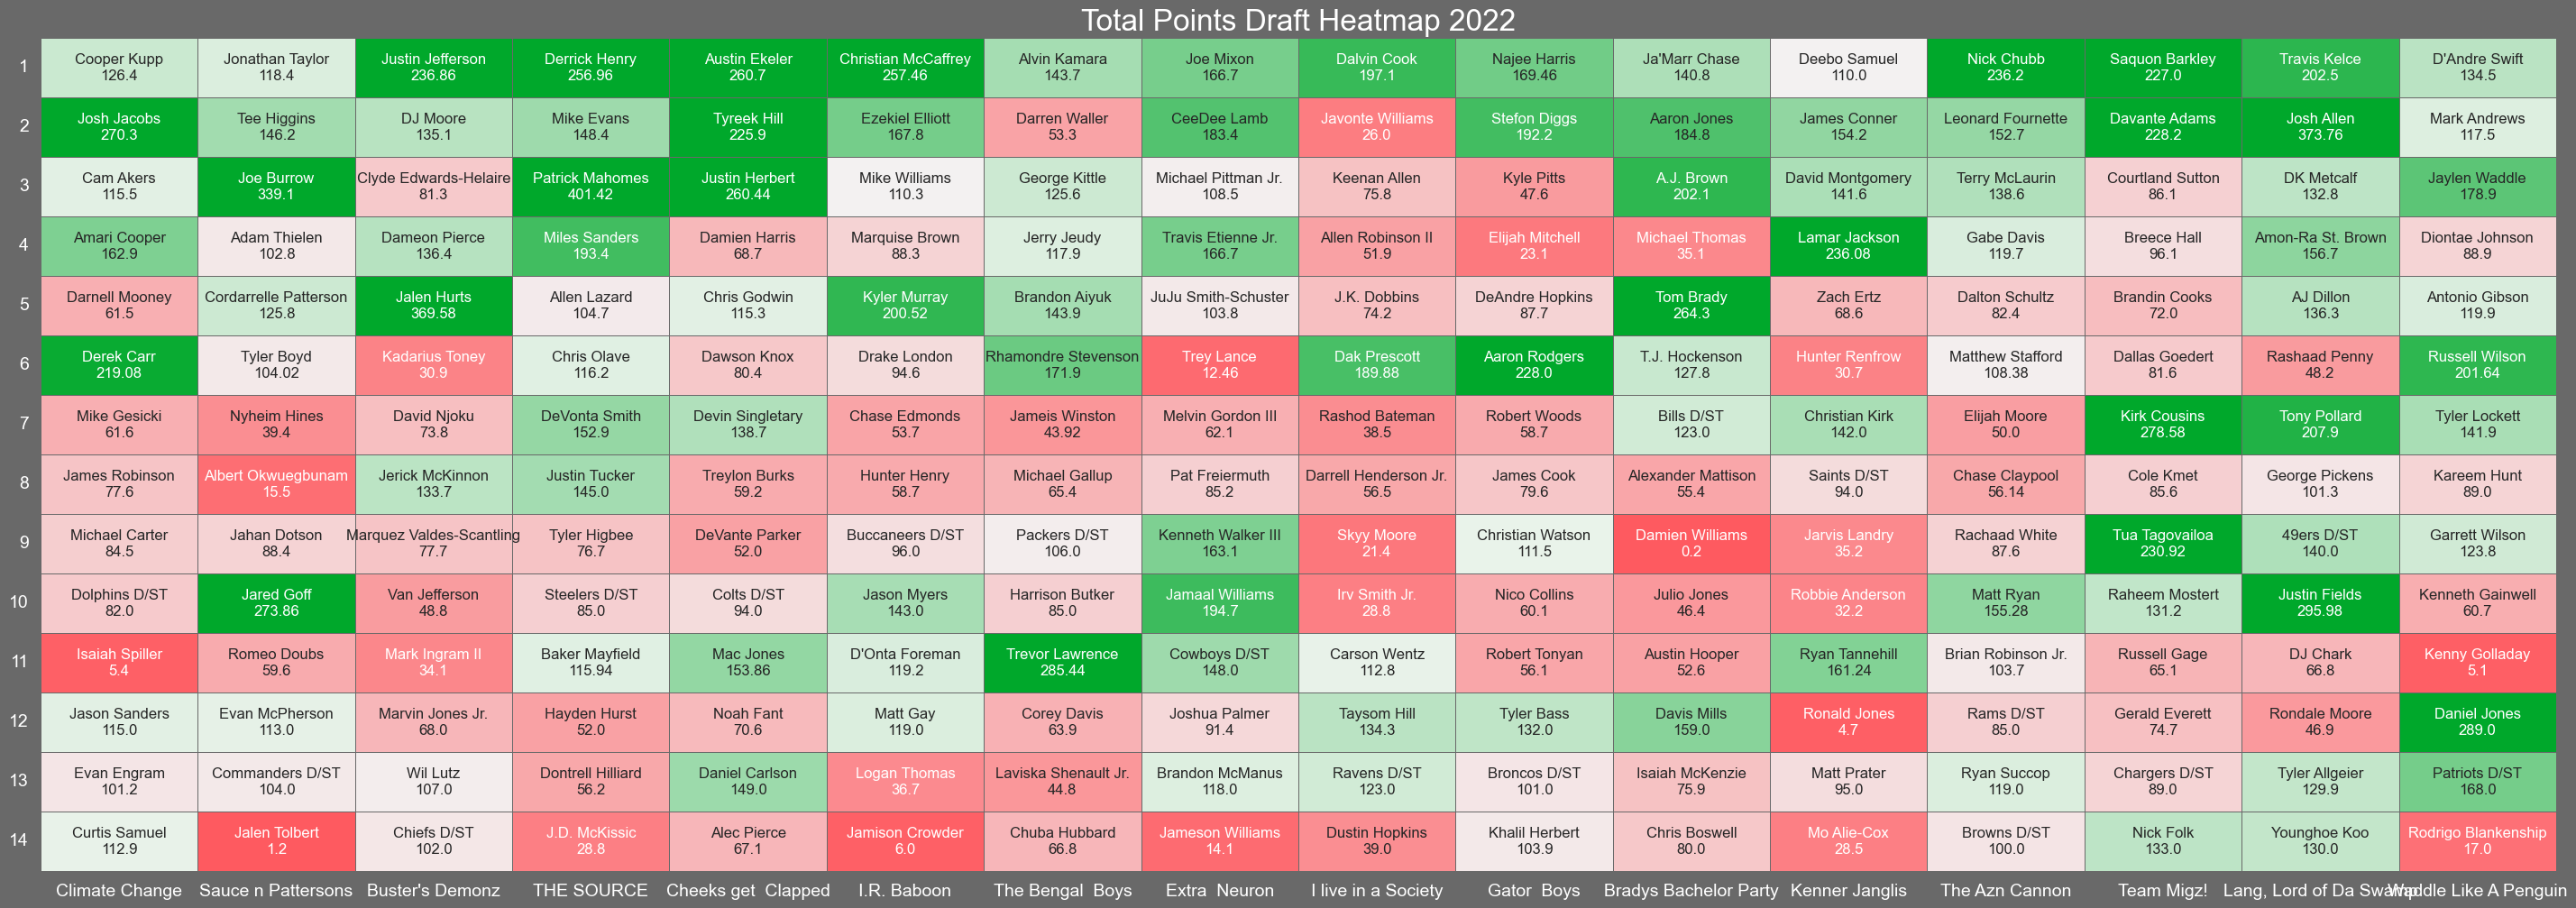

Layout of this report page (visuals, bound fields, positions):
{"tool":"powerbi","page":{"name":"Page 3","canvas":[1280,720],"ordinal":2},"visuals":[{"type":"pivotTable","fields":{"Rows":["Query1.round","Query1.playername"],"Columns":["Query1.pick"],"Values":["Sum(Query1.total)"]},"box":[0,0,1280,720],"z":1}]}

Visuals, with their boxes on the page's 1280x720 design canvas (x1, y1, x2, y2). These are canvas units, not pixel positions in the 2576x908 screenshot, which may show the page scaled, cropped or inside an application window:
pivotTable - Query1.round x Query1.playername: [0, 0, 1280, 720]
